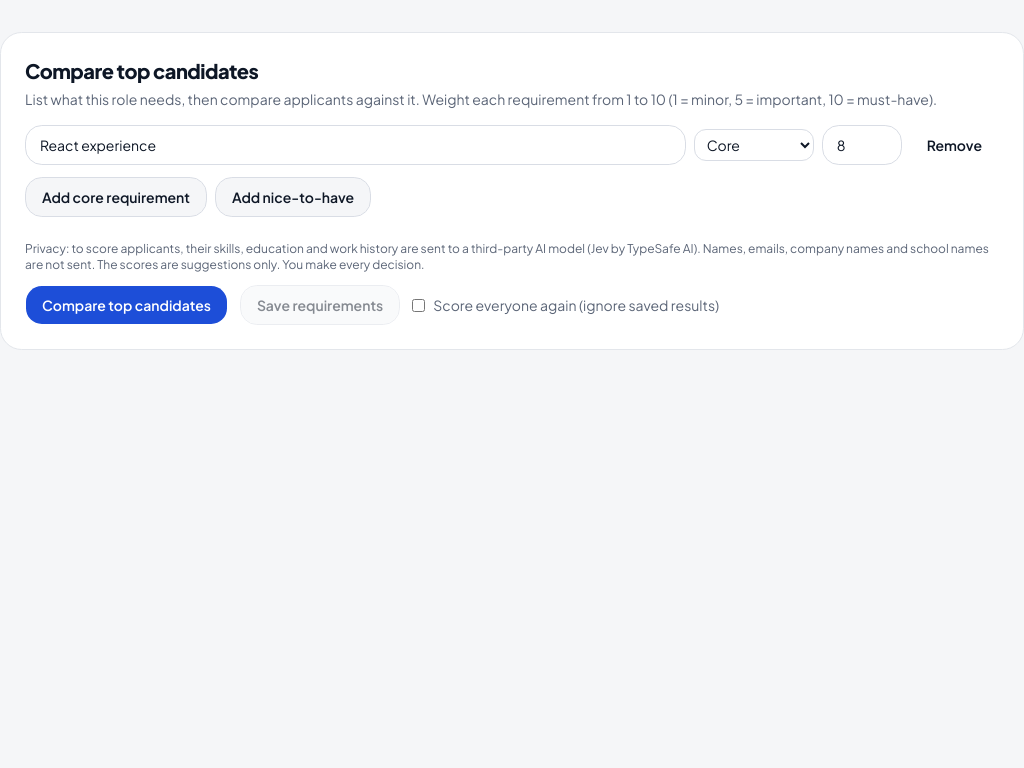
Test case: CandidateComparison › compares and shows ranking, levels and the human review flag
The width and height of the screenshot is (1024, 768).
Click the button "Compare top candidates": (126, 305) [25, 285, 228, 325]
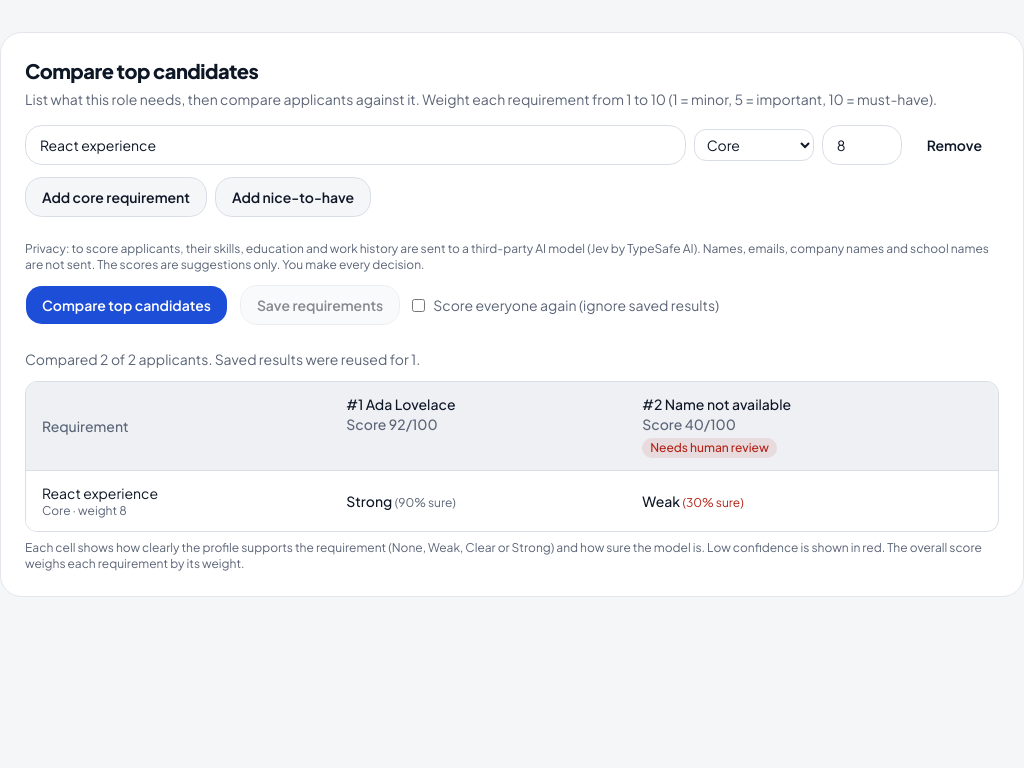
expect the text "#1 Ada Lovelace" is shown: met, box [346, 395, 456, 413]
expect the text "#2 Name not available" is shown: met, box [642, 395, 791, 413]
expect the text "Strong" is shown: met, box [346, 492, 392, 510]
